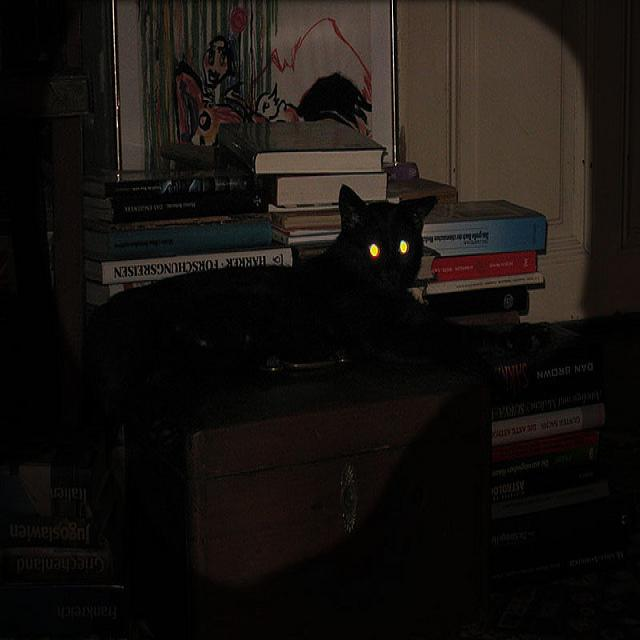Cat: (63, 202, 488, 533)
